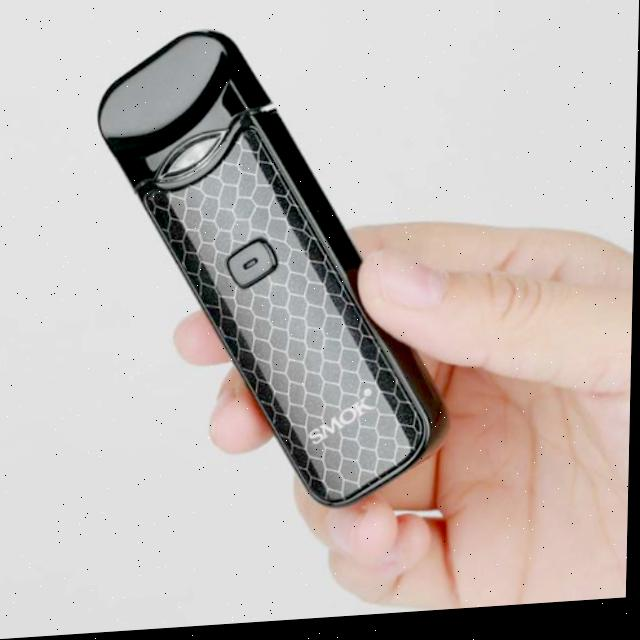vape: (92, 20, 460, 523)
